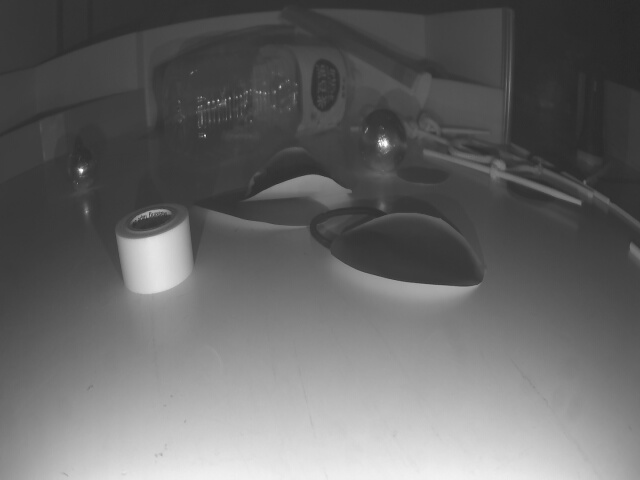Live: (360, 112, 405, 174), (68, 146, 97, 192)
Point: (0, 90, 143, 186), (425, 73, 503, 140)
